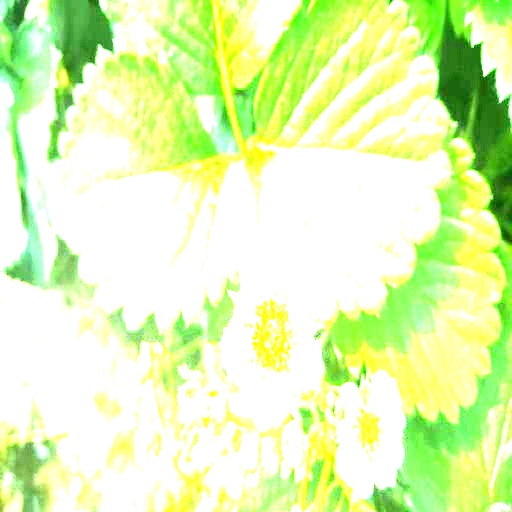Blossom Blight: (239, 283, 303, 393)
